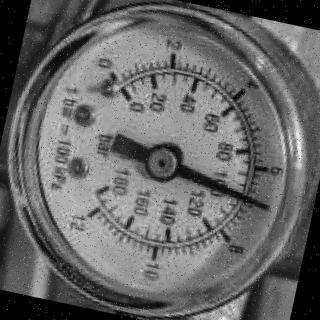gauge: (0, 1, 320, 320), (141, 141, 185, 185), (90, 73, 132, 111), (72, 197, 107, 235), (254, 198, 276, 215)
